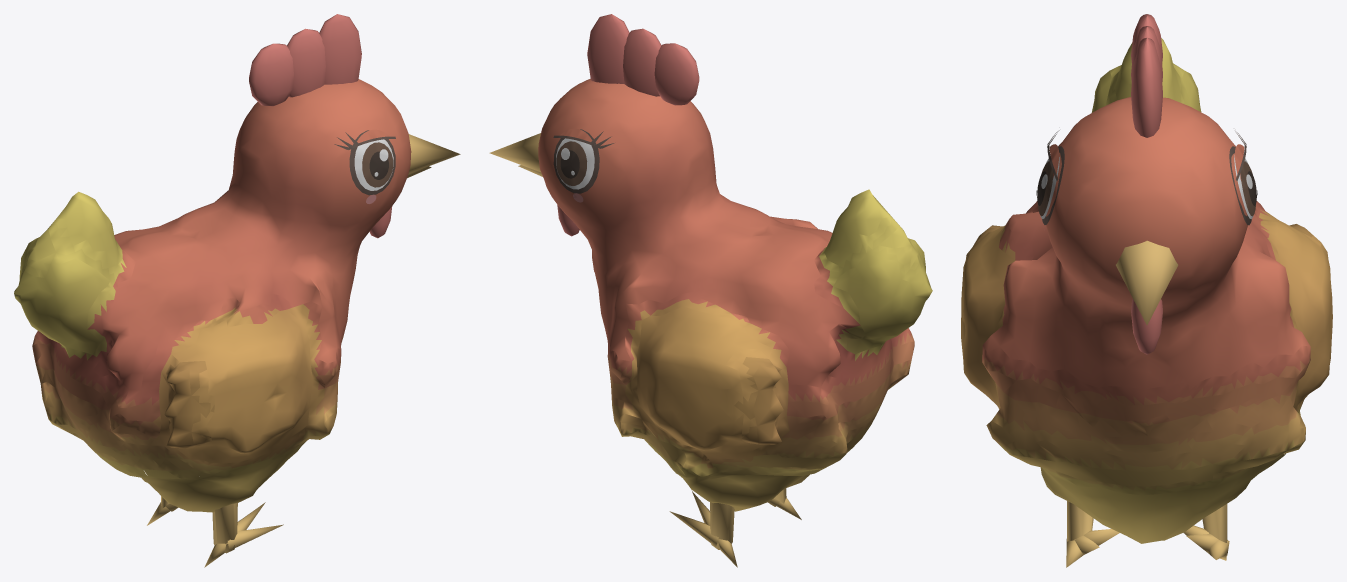
File: flame_chicken.glb
The picture shows the model from 3 angles, left to right: view 1: azimuth 30°, elevation 25°; view 2: azimuth 150°, elevation 25°; view 3: azimuth 270°, elevation 25°; orthographic projection. The views are drawn at different scales.
Parts seen in each view (by area): view 1: flame_chicken; view 2: flame_chicken; view 3: flame_chicken.
Boxes of the visible parts, <box> form: flame_chicken: <box>14,14,460,567</box>; flame_chicken: <box>489,14,932,567</box>; flame_chicken: <box>961,14,1332,567</box>.
Size of the model in its own units: 0.5326 by 0.5654 by 0.3072.
